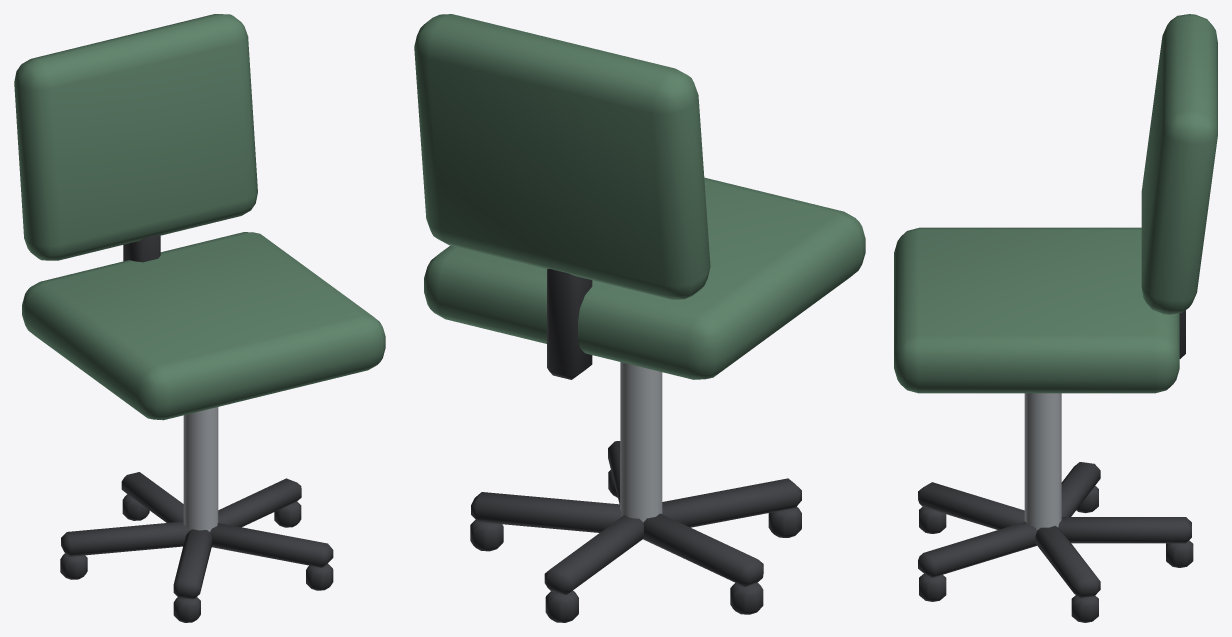
The model's file is chair.glb.
3 renders of one model, left to right at view 1: azimuth 30°, elevation 25°; view 2: azimuth 150°, elevation 25°; view 3: azimuth 270°, elevation 25°, orthographic. The views are drawn at different scales.
Visible parts, largest first — view 1: chair; view 2: chair; view 3: chair.
Boxes of the visible parts, left/top/right/bottom form: chair: left=14, top=14, right=385, bottom=622; chair: left=414, top=14, right=865, bottom=622; chair: left=894, top=14, right=1217, bottom=622.
Size of the model in its own units: 0.48 by 0.8893 by 0.5214.
Materials: 1 (1 with a texture image).
